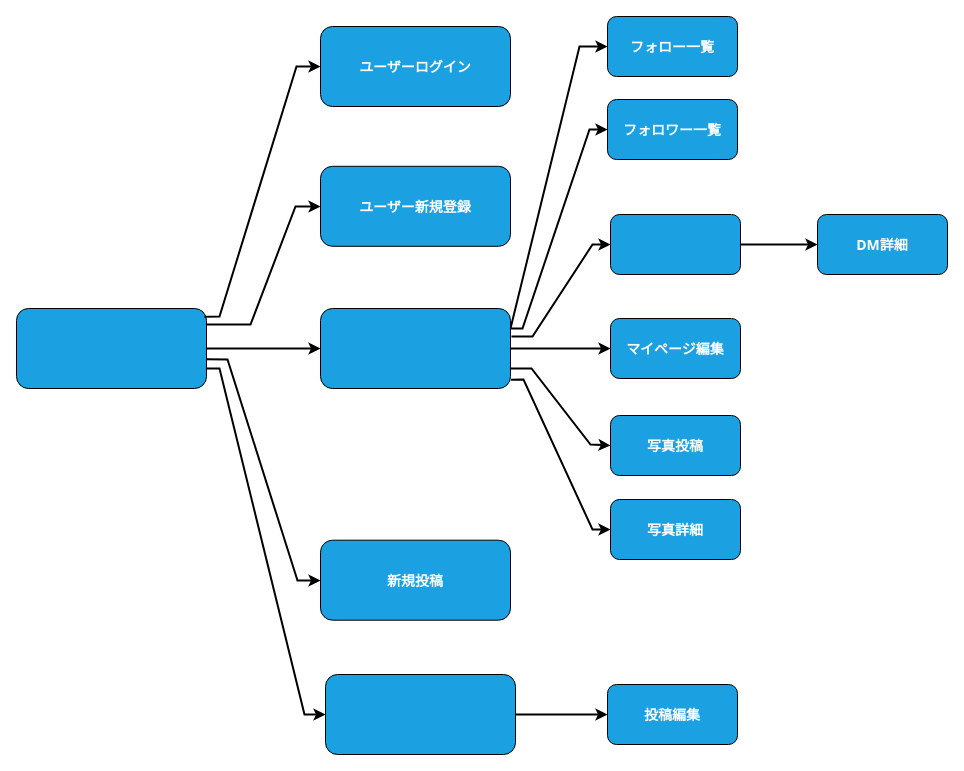
This 964x771 diagram has some shape labels left out. Here are the shapes that lost their labels. From the top down, the centre of each, then its label:
the point at 675,244: DM一覧
the point at 111,348: トップページ （掲示板一覧）
the point at 415,348: マイページ
the point at 420,714: 投稿詳細
